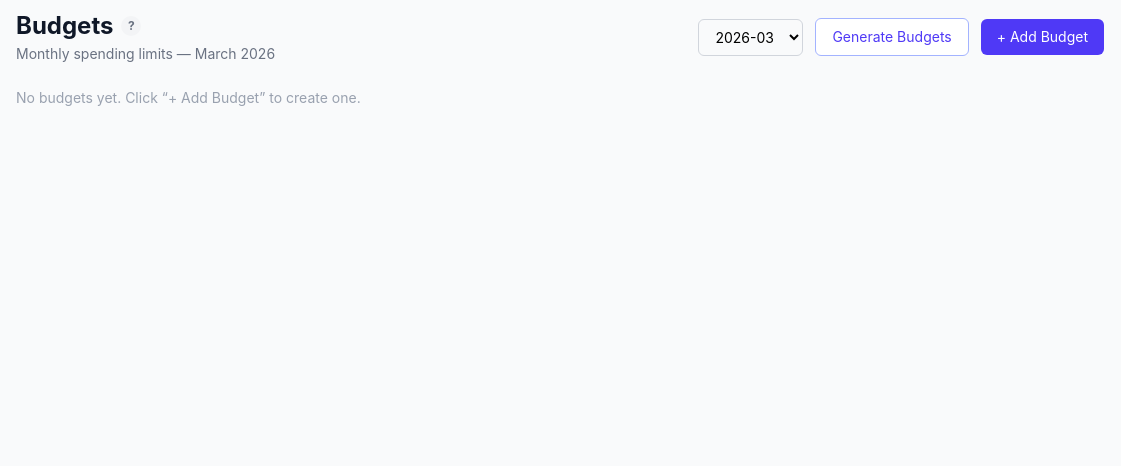
Test: BudgetPage › shows '+ Add Budget' button and opens form on click
The width and height of the screenshot is (1121, 466).
Check: the text "No budgets yet. Click “+ Add Budget” to create one." is shown, box [16, 89, 361, 106]
Click the button "+ Add Budget" at (1042, 37), box [981, 19, 1104, 55]
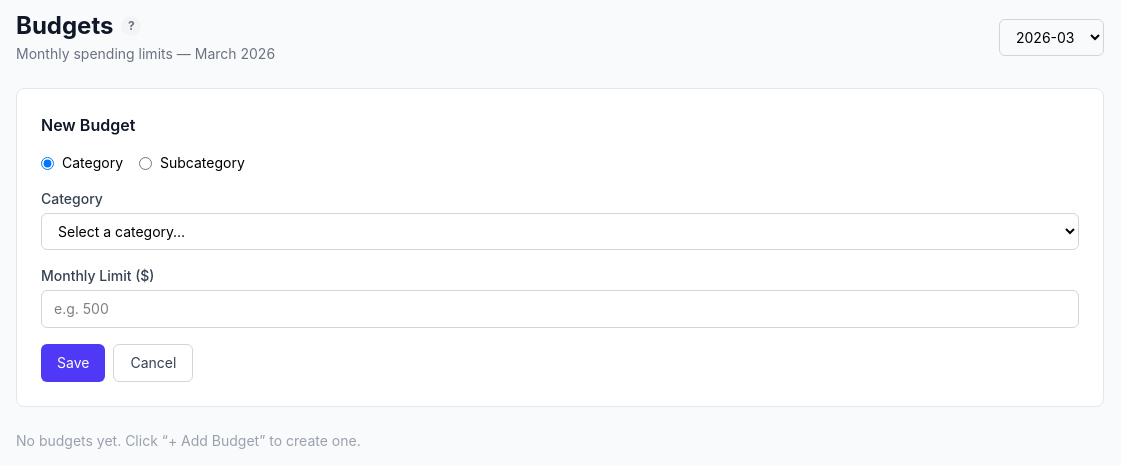
Check: the heading "New Budget" is shown, box [41, 115, 135, 135]
